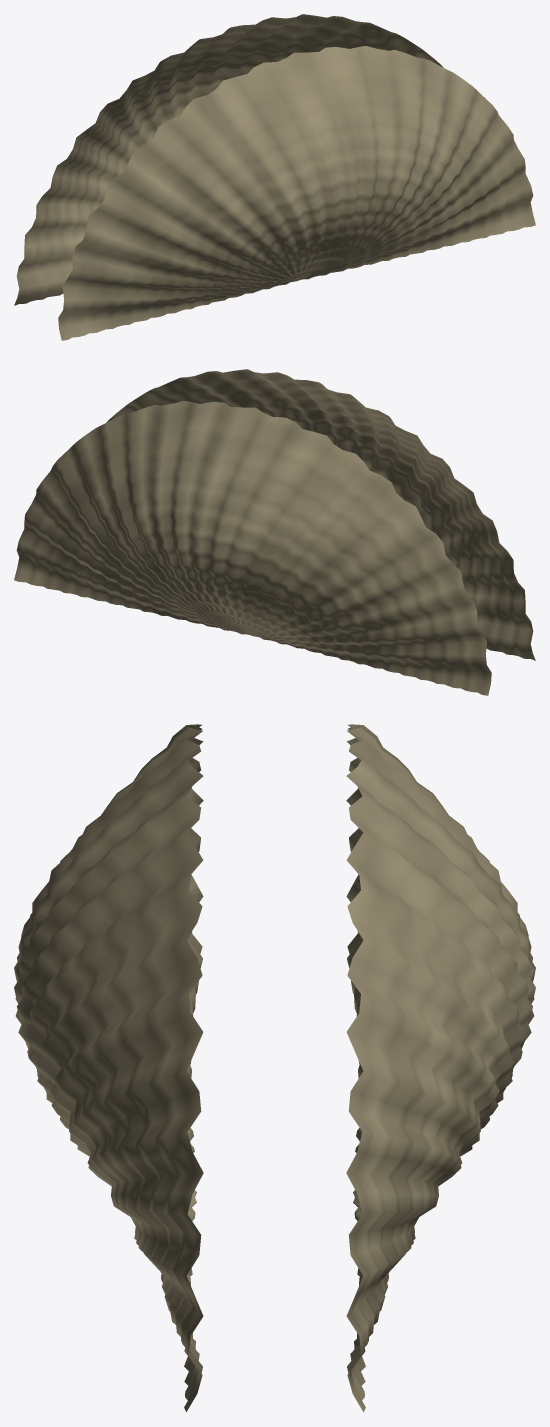
File: freshclam-desktop.glb
3 views of the same model, one above another, from view 1: azimuth 30°, elevation 25°; view 2: azimuth 150°, elevation 25°; view 3: azimuth 270°, elevation 25° (orthographic). The views are drawn at different scales.
Parts seen in each view (by area): view 1: bivalve-valve; view 2: bivalve-valve; view 3: bivalve-valve.
Part boxes in pixels (x1,y1,x2,y2): bivalve-valve: (14,14,535,340); bivalve-valve: (14,369,535,695); bivalve-valve: (14,724,535,1412).
Bounding box in the file's own units: 0.7 × 0.32 × 0.3591.
